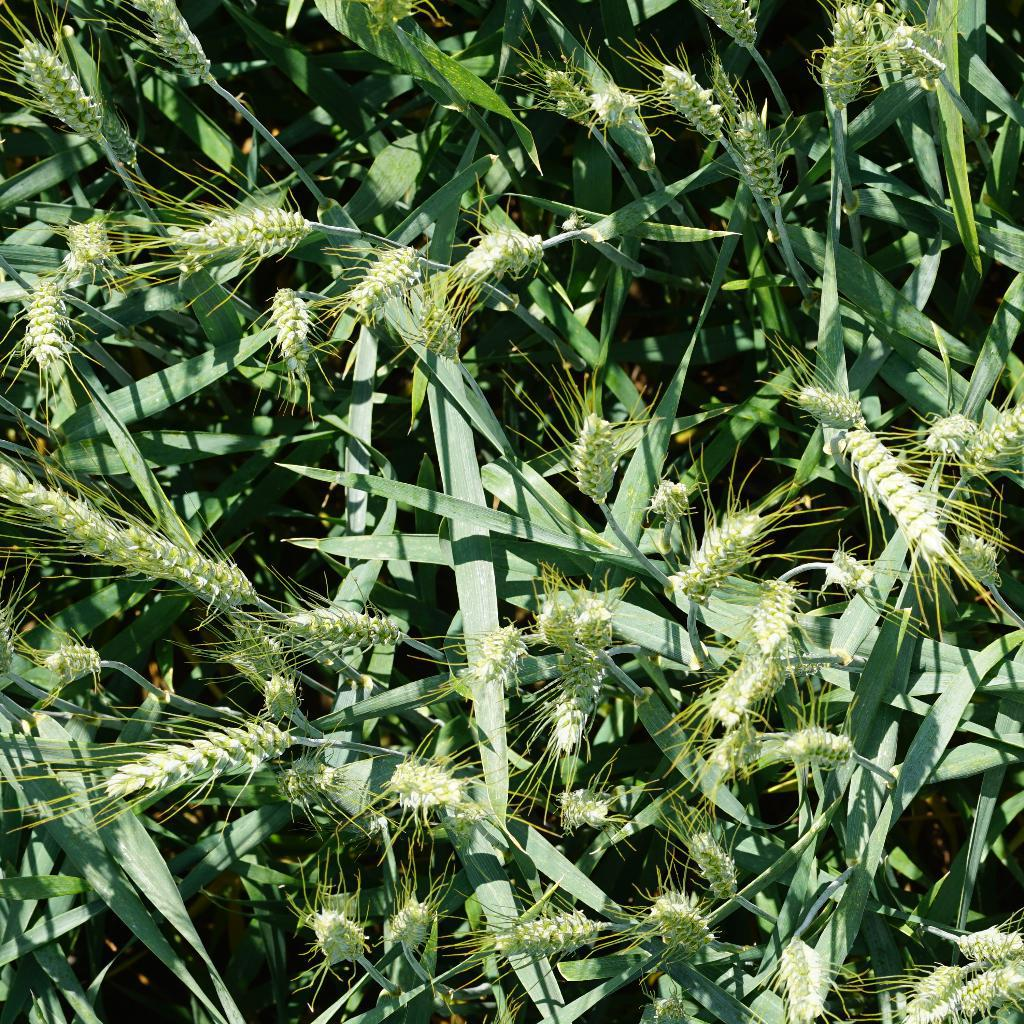0-0: (0, 448, 156, 578), (88, 720, 298, 800), (3, 26, 124, 164), (836, 426, 950, 561), (131, 522, 268, 608), (277, 578, 411, 660), (545, 396, 634, 505), (126, 0, 224, 91), (671, 503, 759, 604), (724, 105, 799, 221), (479, 894, 600, 965), (688, 635, 776, 732), (342, 231, 433, 316), (167, 200, 321, 250), (654, 64, 736, 157), (634, 881, 725, 964), (534, 660, 616, 751), (818, 0, 878, 124), (18, 268, 78, 392), (378, 739, 481, 811), (295, 897, 372, 986), (882, 19, 959, 100), (467, 212, 550, 287), (784, 363, 871, 433), (367, 885, 443, 965), (962, 390, 1024, 488), (944, 516, 1020, 595), (676, 830, 762, 899), (260, 281, 325, 370), (660, 0, 769, 53), (244, 655, 317, 730), (531, 52, 600, 130), (38, 627, 118, 694), (783, 915, 830, 1024), (594, 64, 657, 142), (901, 948, 965, 1024), (787, 716, 866, 774), (699, 716, 772, 778), (223, 613, 290, 679), (751, 571, 806, 651), (949, 918, 1024, 976), (271, 754, 344, 813), (94, 93, 149, 171), (815, 549, 892, 602), (56, 213, 126, 271), (552, 774, 621, 832), (955, 960, 1024, 1017), (462, 613, 529, 671), (638, 460, 694, 527), (702, 45, 743, 129), (916, 399, 976, 447), (421, 310, 471, 367), (538, 582, 579, 651), (576, 604, 624, 661), (432, 790, 490, 837), (337, 805, 399, 843), (634, 993, 690, 1024)
